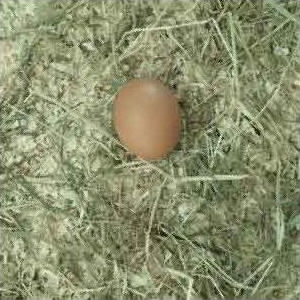egg: (112, 77, 181, 162)
